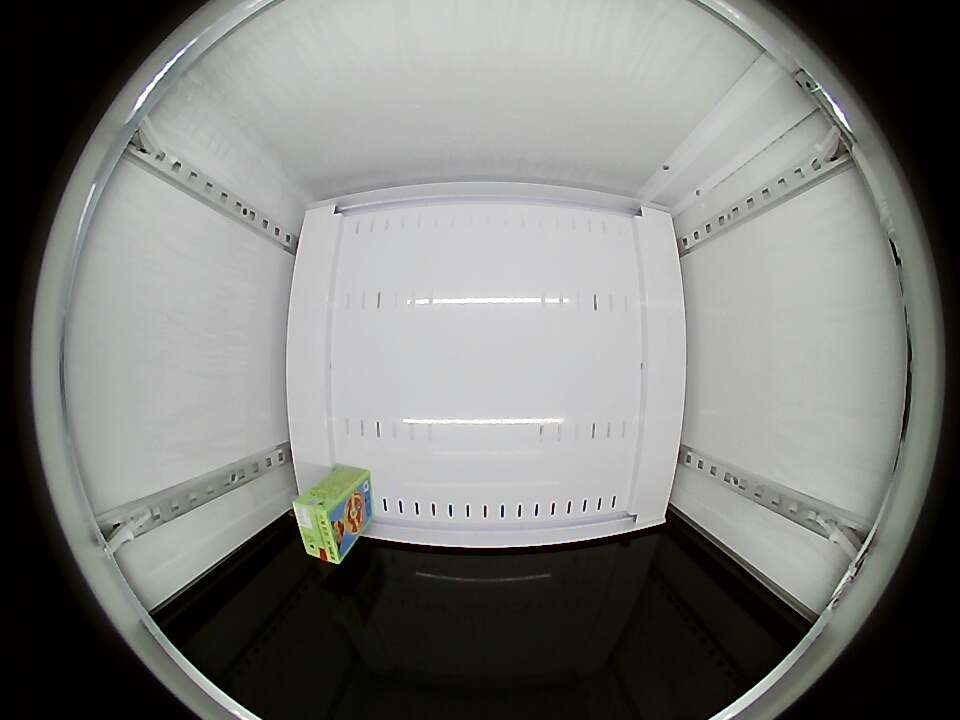wanglaoji: (291, 491, 351, 564)
